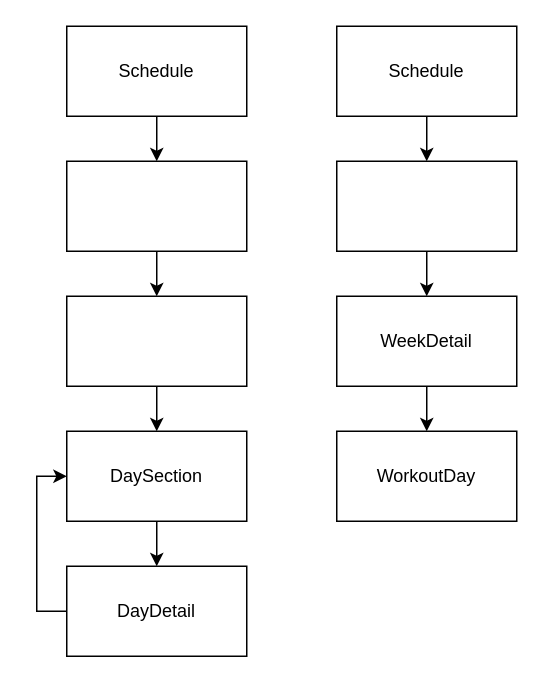
Image size: 543x683. Some labels were removed from this diagram. The centre of each missing label's shape, as x and y in pixels:
CreateSchedule: the point at 156,205
DurationSection: the point at 156,340
ScheduleDetail: the point at 426,205
